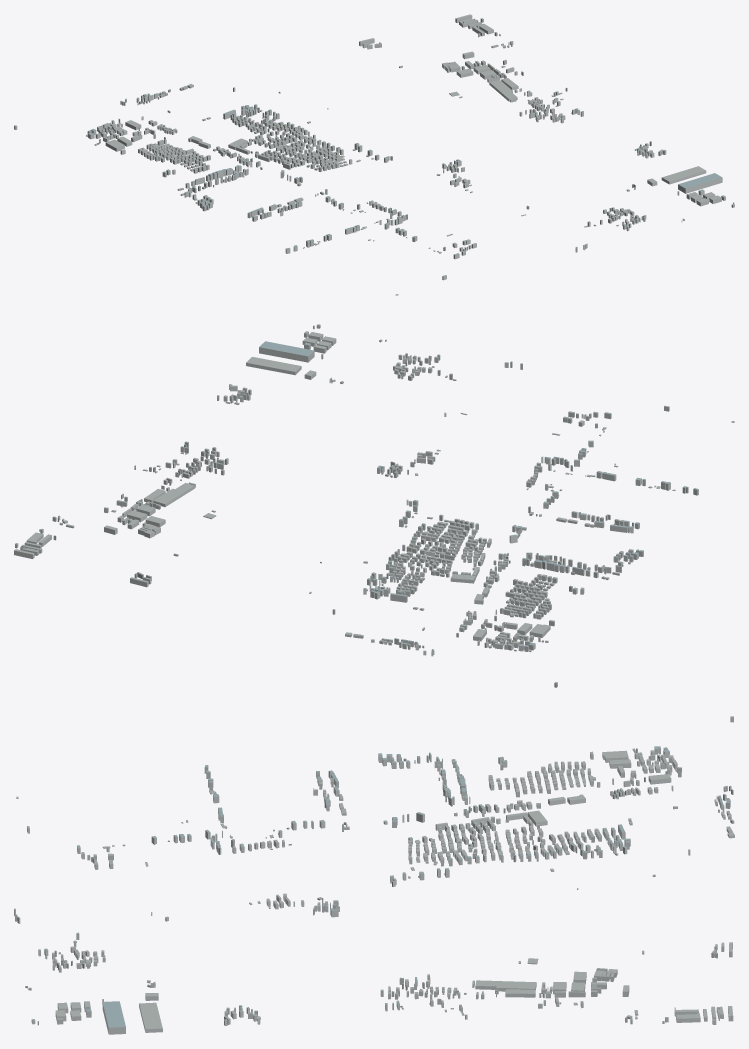
The model's file is far.glb.
3 renders of one model, top to bottom at view 1: azimuth 30°, elevation 25°; view 2: azimuth 150°, elevation 25°; view 3: azimuth 270°, elevation 25°, orthographic. The views are drawn at different scales.
Size of the model in its own units: 2155 by 25.65 by 2094.
